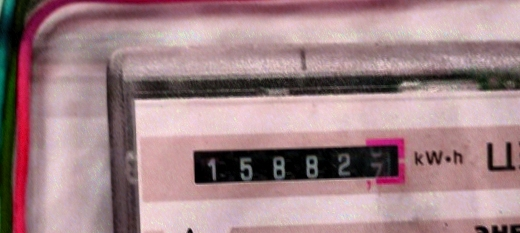1: (204, 154, 219, 182)
2: (335, 150, 352, 178)
5: (236, 154, 255, 181)
7: (368, 159, 384, 177)
8: (269, 153, 286, 182), (303, 152, 319, 180)
screen: (179, 130, 415, 197)
